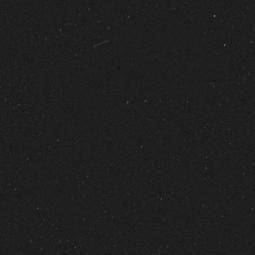proba_3_csc: (76, 44, 219, 102)
